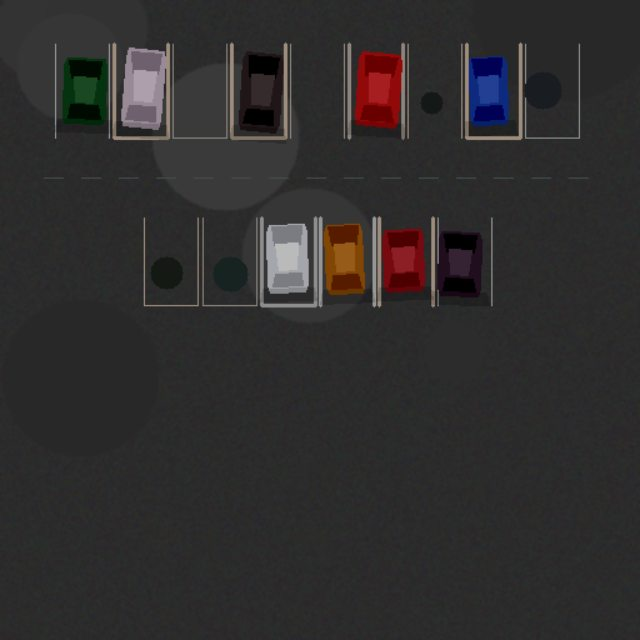space-empty: (172, 44, 226, 138), (290, 44, 344, 138), (525, 44, 579, 138), (408, 44, 461, 138), (144, 217, 198, 305), (202, 217, 256, 305)
space-occupied: (55, 44, 109, 138), (114, 44, 168, 138), (231, 44, 285, 138), (466, 44, 520, 138), (349, 44, 402, 138), (261, 217, 315, 305), (320, 217, 374, 305), (379, 217, 432, 305), (438, 217, 491, 305)
